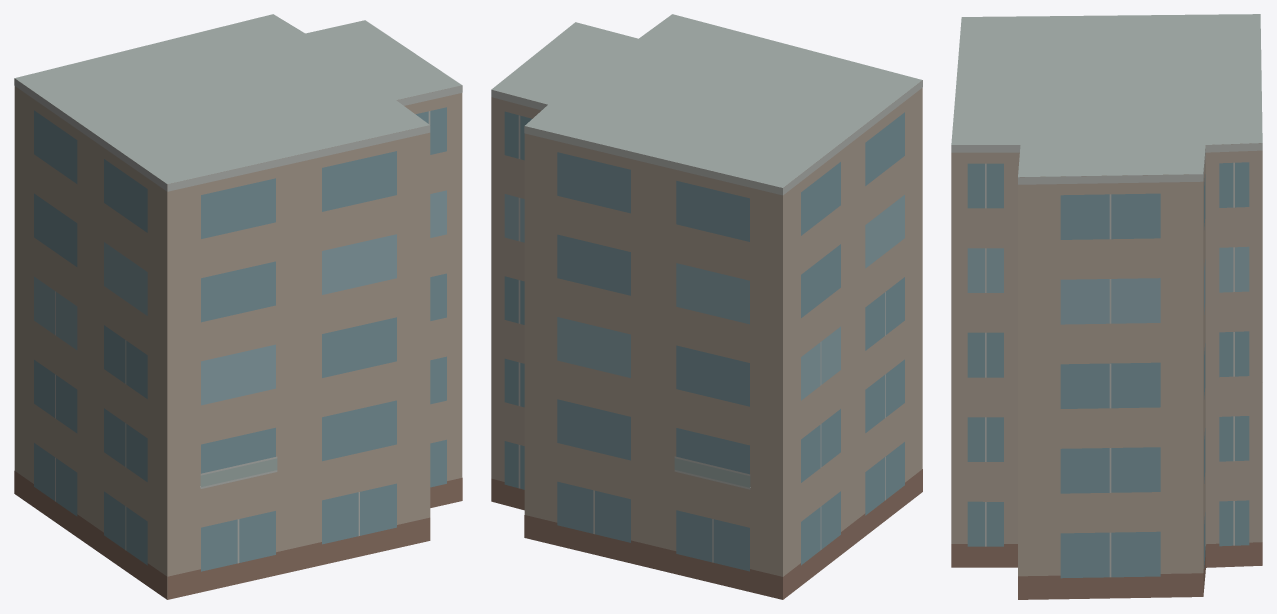
Rendered from survey-upis-32881460.glb.
3 renders of one model, left to right at view 1: azimuth 30°, elevation 25°; view 2: azimuth 150°, elevation 25°; view 3: azimuth 270°, elevation 25°, orthographic. The views are drawn at different scales.
Visible parts, largest first — view 1: survey-upis-32881460.tmp; view 2: survey-upis-32881460.tmp; view 3: survey-upis-32881460.tmp.
Part boxes in pixels (x1,y1,x2,y2): survey-upis-32881460.tmp: (14,14,462,599); survey-upis-32881460.tmp: (491,14,922,599); survey-upis-32881460.tmp: (951,14,1262,599).
Size of the model in its own units: 11.18 by 13.5 by 9.02.
